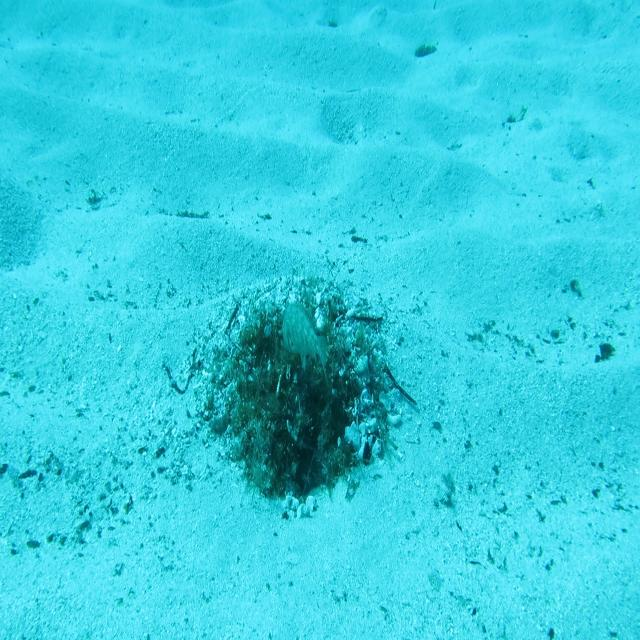NIP_CORE: (278, 294, 328, 383)
core_nest: (265, 330, 326, 365)
nest: (176, 263, 413, 527)
vegetation: (413, 41, 436, 60)
